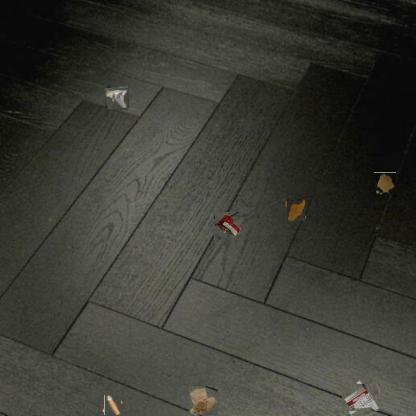dirty: (344, 381, 378, 413), (188, 386, 218, 416), (214, 212, 242, 240), (106, 87, 128, 110), (103, 396, 122, 416)
liquid: (374, 172, 396, 195), (286, 198, 306, 220)
